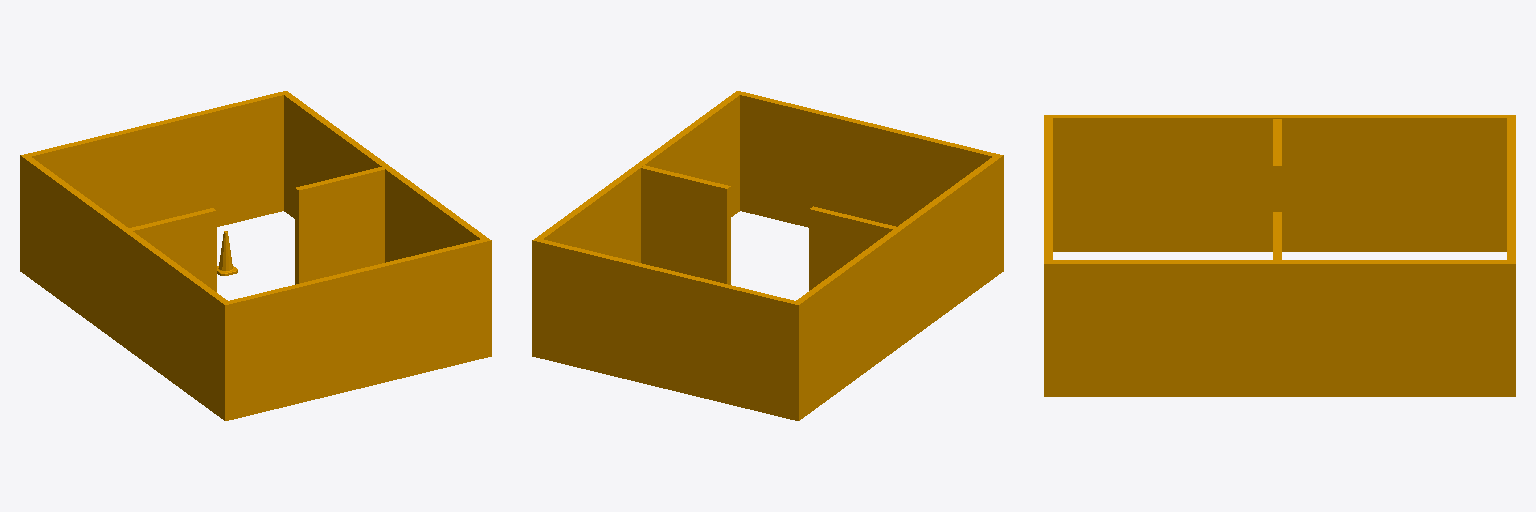
URDF robot description (Walls):
<?xml version="1.0"?>
<robot name="Walls">
  <link name="Walls">
    <contact>
      <lateral_friction value="0.5"/>
      <rolling_friction value="0.0"/>
      <contact_cfm value="0.0"/>
      <contact_erp value="1.0"/>
    </contact>
    <inertial>
      <origin rpy="0 0 0" xyz="0.07 0.05 0.03"/>
       <mass value="1000"/>
       <inertia ixx="1" ixy="0" ixz="0" iyy="1" iyz="0" izz="1"/>
    </inertial>
    <visual>
      <origin xyz="0.0 0.0 0.0"/>
      <geometry>
        <mesh filename="wall2.obj" scale="1.0 1.0 1.0"/>
      </geometry>
    </visual>
    <collision>
      <origin xyz="0.0 0.0 0.0"/>
      <geometry>
        <mesh filename="wall2.obj" scale="1.0 1.0 1.0"/>
      </geometry>
    </collision>
  </link>
</robot>

--- What the picture shows (computed from the rendered views, not written in the file) ---
Views: 3 orthographic renders of the robot side by side, from view 1: azimuth 30°, elevation 25°; view 2: azimuth 150°, elevation 25°; view 3: azimuth 270°, elevation 25°.
Model Walls with 1 links and 0 joints (none), rooted at Walls, posed all joints at 0.
Links seen in each view (by area): view 1: Walls; view 2: Walls; view 3: Walls.
Link boxes in pixels (x1,y1,x2,y2): Walls: (20, 91, 491, 420); Walls: (532, 91, 1003, 420); Walls: (1044, 115, 1515, 396).
Bounding box of the posed robot: 6 × 8 × 2.5 m (x, y, z).
1 mesh visuals loaded from 1 distinct referenced files (1 OBJ).